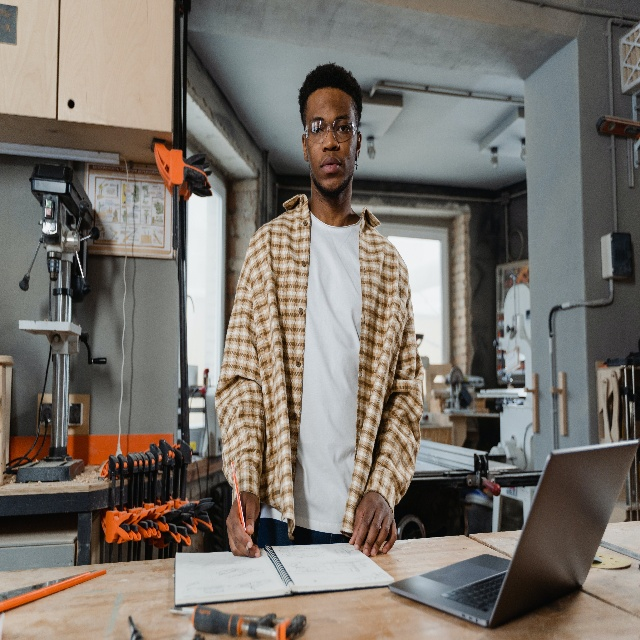Gafas: (305, 117, 356, 142)
Sin_guantes: (348, 489, 398, 555), (226, 490, 262, 559)
